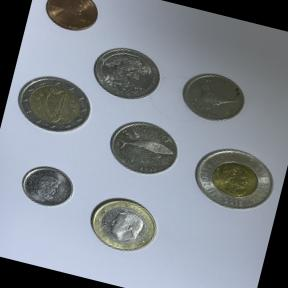coin: (179, 133, 286, 225), (8, 67, 100, 144), (76, 186, 167, 262), (99, 111, 188, 186), (84, 37, 171, 110), (14, 158, 81, 216), (33, 0, 107, 43)
